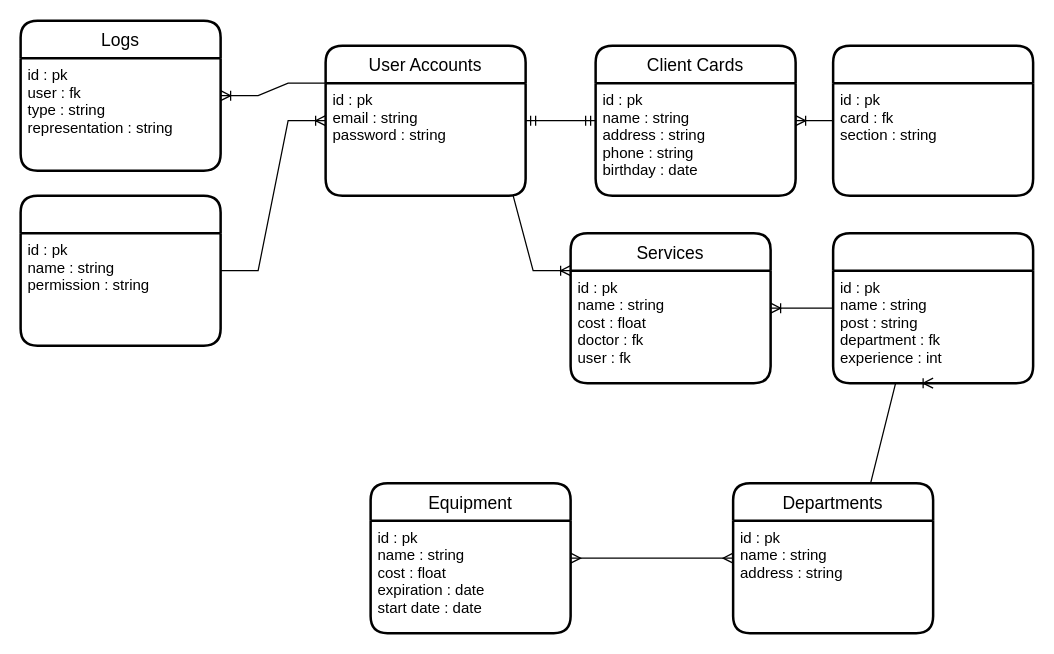
This 1054x654 diagram has some shape labels left out. The shapes that lost their labels are listed below. From the top down, each one's box as (x1, y1, x2, y2) in pixels, then its label:
(831, 44, 1034, 196): Cards Storage
(19, 194, 221, 346): Roles
(831, 231, 1034, 384): Doctors
